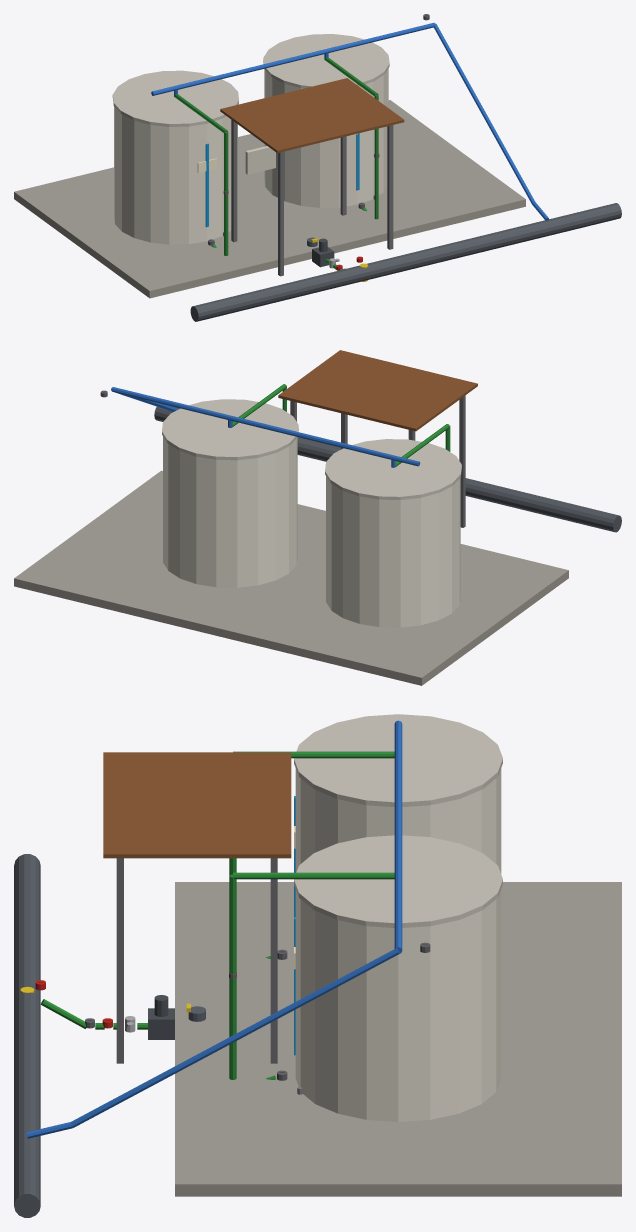
Rendered from fertirrigacao_caixas_10mil.dae.
3 renders of one model, top to bottom at view 1: azimuth 30°, elevation 25°; view 2: azimuth 150°, elevation 25°; view 3: azimuth 270°, elevation 25°, orthographic. The views are drawn at different scales.
Visible parts, largest first — view 1: Concreto, Caixa d'agua, Tampa, Cobertura, Adutora, Pilar, Agua limpa, Calda/fertilizante, Painel, Nivel, Bomba; view 2: Concreto, Caixa d'agua, Tampa, Cobertura, Adutora, Agua limpa, Pilar, Calda/fertilizante; view 3: Concreto, Caixa d'agua, Tampa, Cobertura, Adutora, Agua limpa, Calda/fertilizante, Pilar, Bomba.
Boxes of the visible parts, x1,y1,x2,y2 form: Concreto: [14, 100, 525, 298]; Caixa d'agua: [114, 68, 388, 244]; Tampa: [112, 34, 389, 126]; Cobertura: [220, 78, 404, 152]; Adutora: [190, 203, 621, 321]; Pilar: [231, 120, 393, 276]; Agua limpa: [151, 22, 548, 220]; Calda/fertilizante: [174, 57, 378, 270]; Painel: [245, 146, 275, 174]; Nivel: [205, 133, 359, 227]; Bomba: [312, 238, 334, 267]; Concreto: [14, 470, 568, 685]; Caixa d'agua: [163, 437, 460, 627]; Tampa: [162, 399, 461, 499]; Cobertura: [278, 350, 477, 431]; Adutora: [154, 405, 621, 532]; Agua limpa: [111, 387, 420, 467]; Pilar: [290, 395, 465, 527]; Calda/fertilizante: [232, 384, 450, 466]; Concreto: [175, 882, 621, 1196]; Caixa d'agua: [295, 768, 501, 1121]; Tampa: [294, 714, 502, 927]; Cobertura: [103, 752, 291, 858]; Adutora: [14, 854, 40, 1217]; Agua limpa: [26, 720, 402, 1138]; Calda/fertilizante: [41, 751, 394, 1079]; Pilar: [116, 858, 277, 1063]; Bomba: [148, 995, 174, 1039].
Size of the model in its own units: 9 by 6.8 by 2.93.
